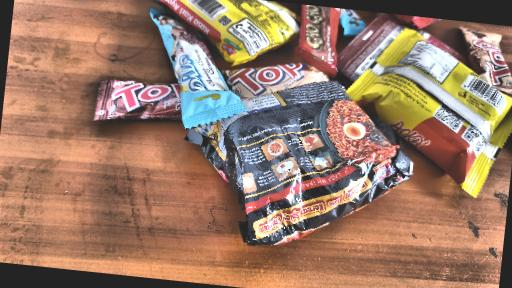dilan: (134, 11, 268, 118)
mie sedap: (192, 72, 401, 244)
